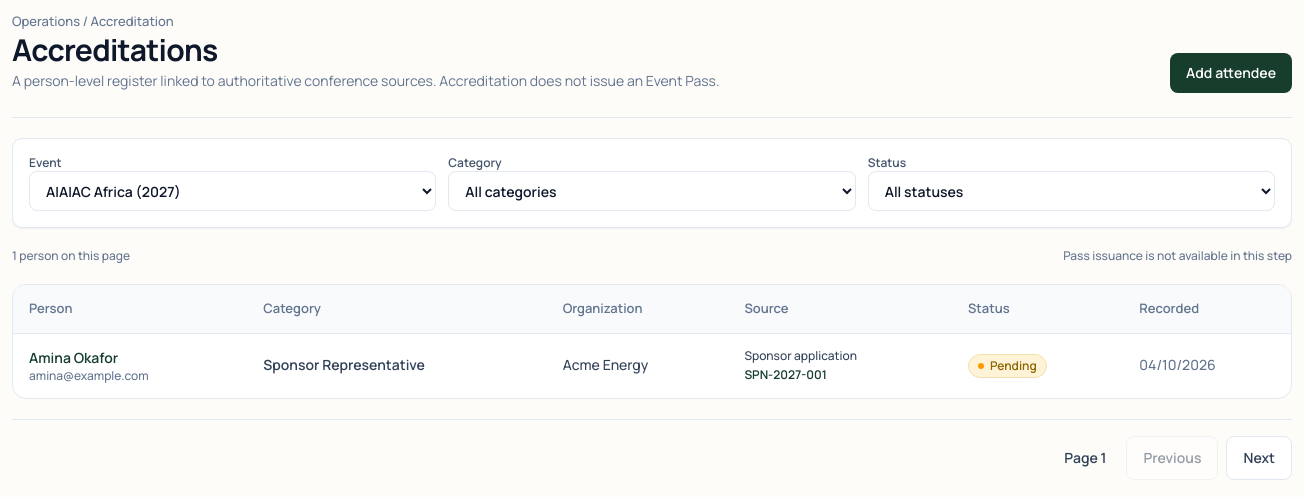
Test case: Accreditation UI › requests one server page at a time and supports next/previous navigation
Expected: the text "1 person on this page" is shown, 12,248 -> 130,264
Expected: the button "Previous" is disabled, 1126,436 -> 1218,480
Click the button "Next".
click(1259, 458)  # box 1226,436 -> 1292,480
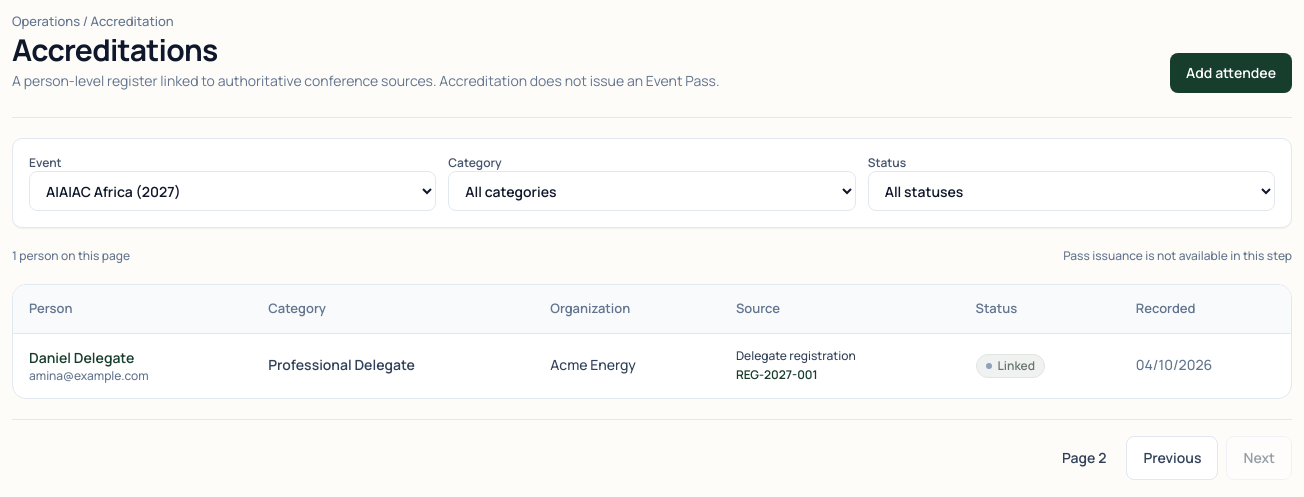
Expected: the navigation bar named "Accreditation pages" shows "Page 2", 12,418 -> 1292,480
Expected: the button "Previous" is enabled
Expected: the button "Next" is disabled, 1226,436 -> 1292,480
Click the button "Previous".
click(1172, 458)  # box 1126,436 -> 1218,480
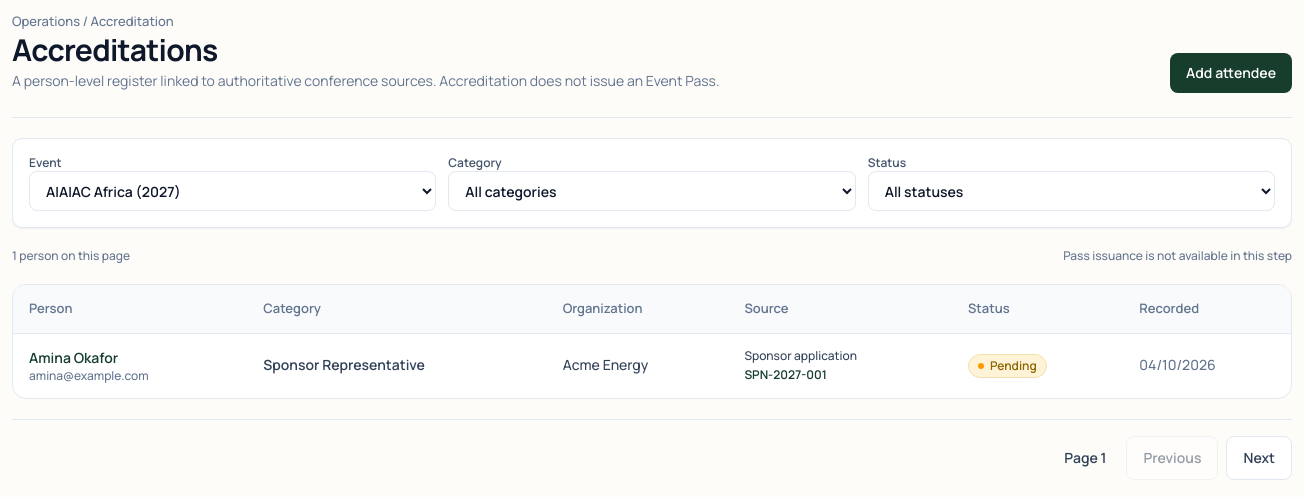
Expected: the navigation bar named "Accreditation pages" shows "Page 1", 12,418 -> 1292,480
